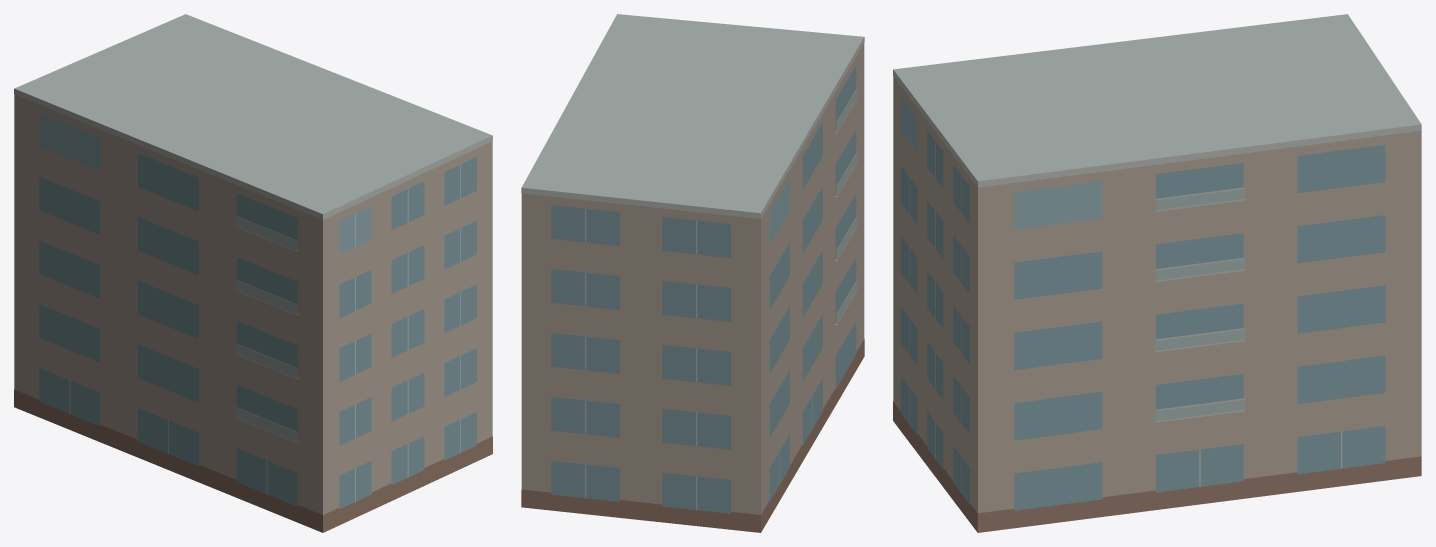
Rendered from survey-upis-32751374.glb.
The picture shows the model from 3 angles, left to right: view 1: azimuth 30°, elevation 25°; view 2: azimuth 150°, elevation 25°; view 3: azimuth 270°, elevation 25°; orthographic projection. The views are drawn at different scales.
Parts seen in each view (by area): view 1: survey-upis-32751374.tmp; view 2: survey-upis-32751374.tmp; view 3: survey-upis-32751374.tmp.
Boxes of the visible parts, box(x1,y1,x2,y2) form: survey-upis-32751374.tmp: box(14, 14, 492, 532); survey-upis-32751374.tmp: box(521, 14, 864, 532); survey-upis-32751374.tmp: box(893, 14, 1421, 532).
Bounding box in the file's own units: 13.95 × 13.65 × 18.62.
